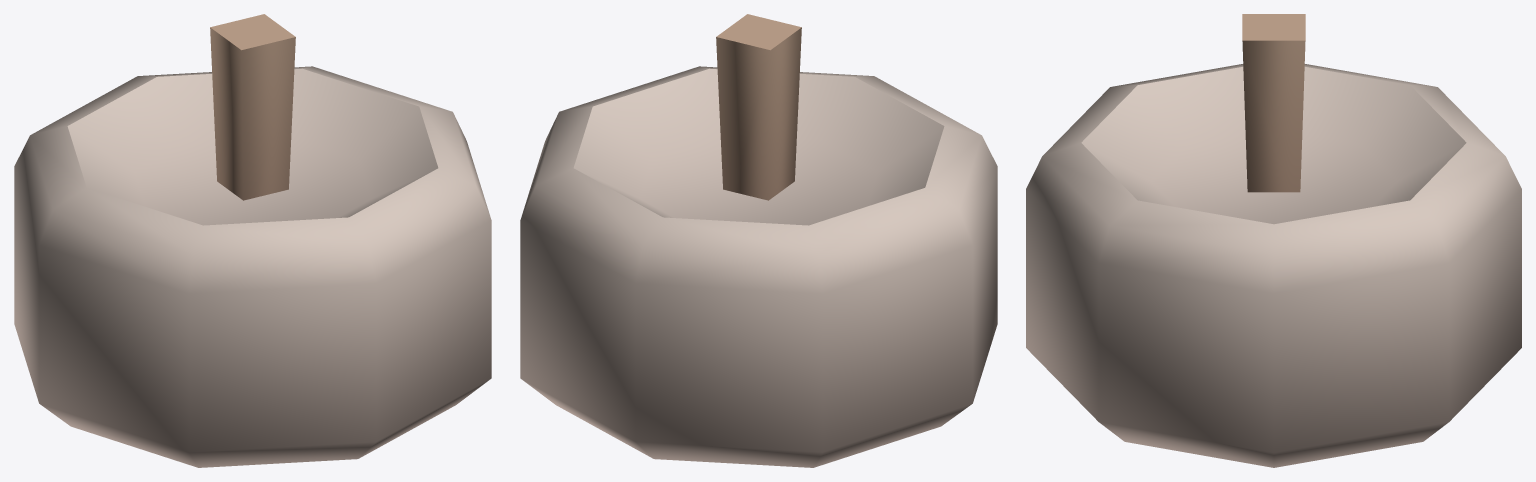
The model's file is candle-small.glb.
3 renders of one model, left to right at view 1: azimuth 30°, elevation 25°; view 2: azimuth 150°, elevation 25°; view 3: azimuth 270°, elevation 25°, orthographic.
Visible parts, largest first — view 1: candle-small; view 2: candle-small; view 3: candle-small.
Part boxes in pixels (x1,y1,x2,y2): candle-small: [14, 14, 491, 467]; candle-small: [520, 14, 997, 467]; candle-small: [1026, 14, 1521, 467].
Size of the model in its own units: 0.1459 by 0.1141 by 0.1459.
